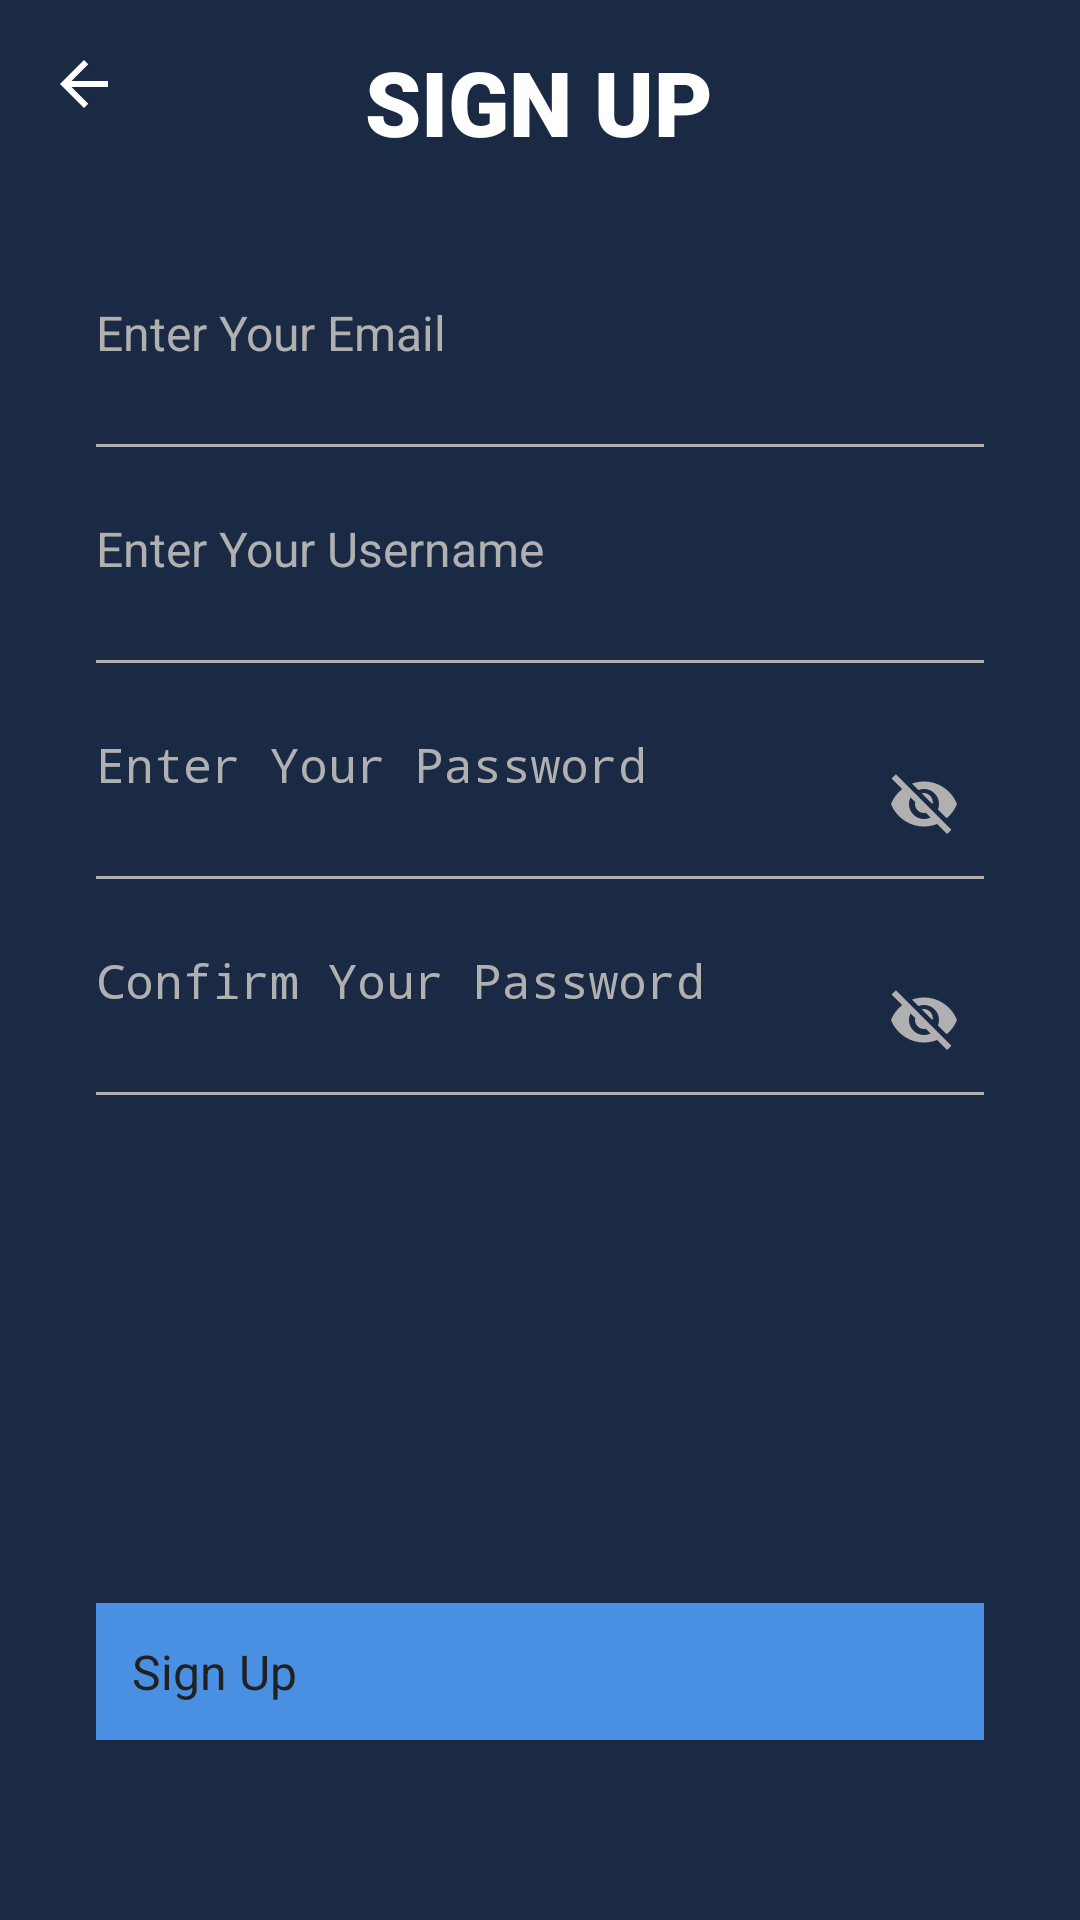

Locate icon controls on the screen. Image size 1080×1920, boxes as (x1, y1, x2, y2).
arrow back: (60, 60, 108, 108)
Toggle Confirm Password Visibility: (891, 990, 957, 1050)
Toggle Password Visibility: (891, 774, 957, 834)
